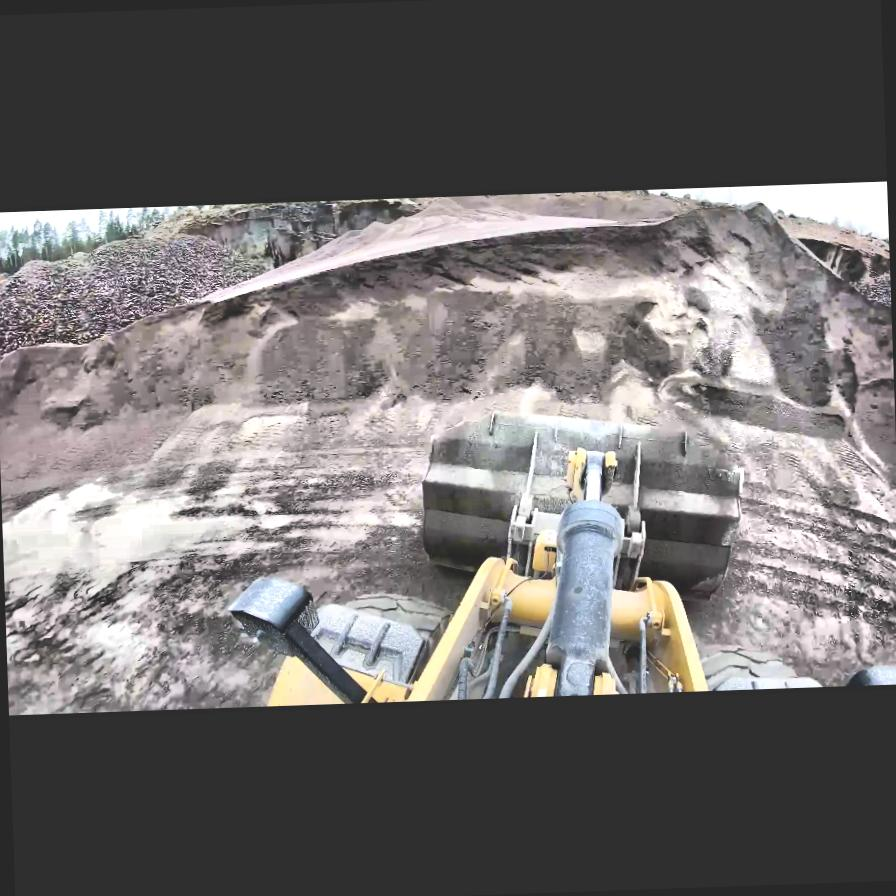anchor: (566, 446, 618, 502)
pile of gravel: (0, 195, 896, 464), (626, 194, 895, 436), (0, 226, 276, 359), (854, 258, 891, 328)
